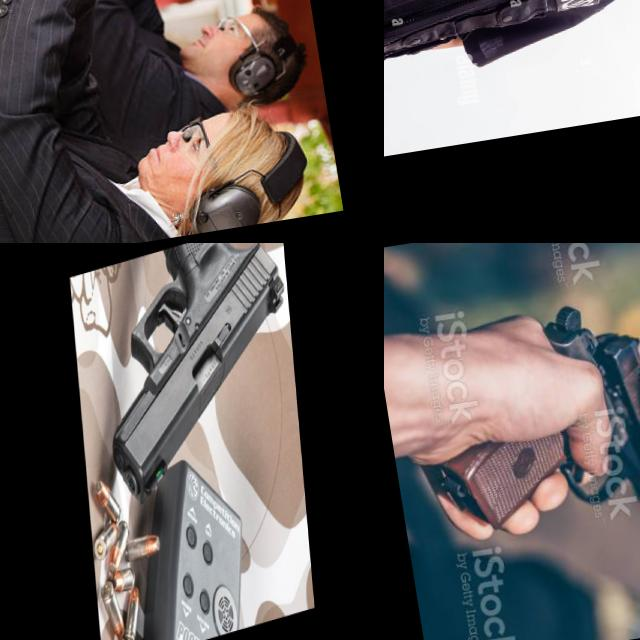handgun: (408, 286, 640, 577), (93, 243, 300, 514), (533, 0, 640, 69), (70, 0, 154, 57), (138, 0, 198, 37)
